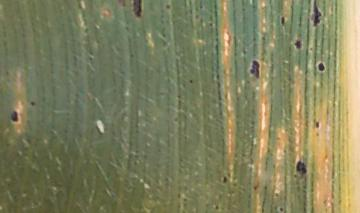tarspot: (310, 1, 321, 27), (295, 158, 308, 176), (130, 1, 143, 19), (249, 60, 260, 79), (293, 38, 303, 51), (316, 61, 326, 73), (9, 110, 19, 122), (279, 14, 286, 27), (252, 181, 260, 191), (221, 174, 228, 185), (314, 120, 320, 130), (28, 100, 36, 107), (187, 77, 194, 85), (278, 205, 284, 213), (213, 203, 219, 211), (164, 3, 170, 10), (308, 45, 313, 53), (207, 22, 213, 27)
